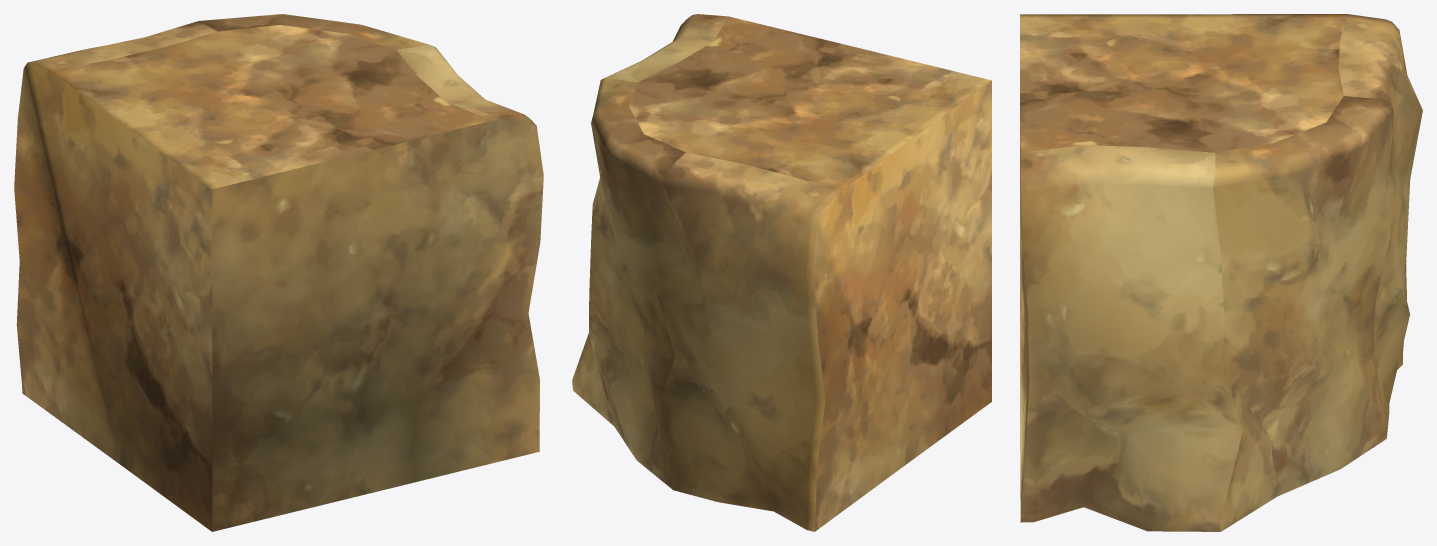
Rendered from DirtEdgeTop.fbx.
3 renders of one model, left to right at view 1: azimuth 30°, elevation 25°; view 2: azimuth 150°, elevation 25°; view 3: azimuth 270°, elevation 25°, orthographic. The views are drawn at different scales.
Visible parts, largest first — view 1: DirtEdgeTop; view 2: DirtEdgeTop; view 3: DirtEdgeTop.
Boxes of the visible parts, x1,y1,x2,y2 form: DirtEdgeTop: (14, 14, 543, 531); DirtEdgeTop: (572, 14, 991, 531); DirtEdgeTop: (1020, 14, 1422, 531).
Bounding box in the file's own units: 217 × 200 × 211.
